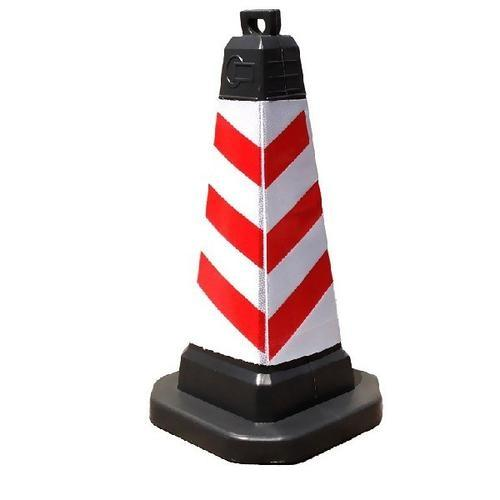cone_barrel: (176, 9, 376, 446)
